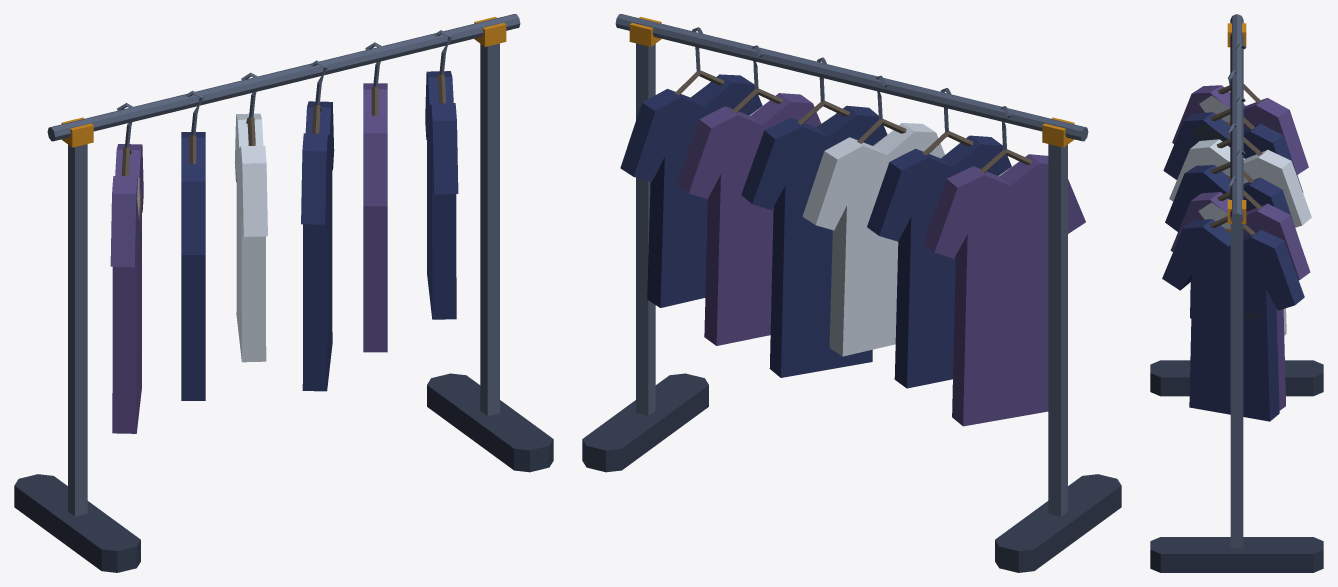
Rendered from mall_clothes_rack.glb.
3 renders of one model, left to right at view 1: azimuth 30°, elevation 25°; view 2: azimuth 150°, elevation 25°; view 3: azimuth 270°, elevation 25°, orthographic. The views are drawn at different scales.
Visible parts, largest first — view 1: clothes_rail, draped_jacket.001, draped_jacket, lapel.001, draped_jacket.002, hanger, hang_tag; view 2: draped_jacket.001, draped_jacket, clothes_rail, draped_jacket.002, lapel.001, hanger, hang_tag; view 3: draped_jacket.001, lapel.001, clothes_rail, draped_jacket, draped_jacket.002, hanger, hang_tag.
Boxes of the visible parts, x1,y1,x2,y2 form: clothes_rail: (47,14,520,516); draped_jacket.001: (181,71,458,400); draped_jacket: (110,83,387,433); lapel.001: (14,189,553,572); draped_jacket.002: (137,113,267,362); hanger: (121,74,446,176); hang_tag: (61,17,506,214); draped_jacket.001: (620,74,1011,388); draped_jacket: (676,93,1085,426); clothes_rail: (615,14,1088,516); draped_jacket.002: (749,105,1013,356); lapel.001: (582,85,1121,572); hanger: (675,70,1032,173); hang_tag: (629,17,1074,147); draped_jacket.001: (1162,112,1304,421); lapel.001: (1150,122,1323,572); clothes_rail: (1227,14,1245,547); draped_jacket: (1170,85,1310,410); draped_jacket.002: (1169,95,1311,335); hanger: (1209,84,1262,235); hang_tag: (1225,23,1246,232).
Bounding box in the file's own units: 2.12 × 1.82 × 0.78.
